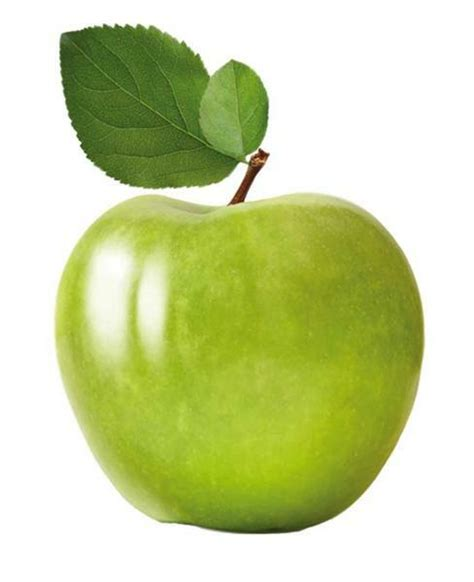apple: (50, 162, 431, 538)
